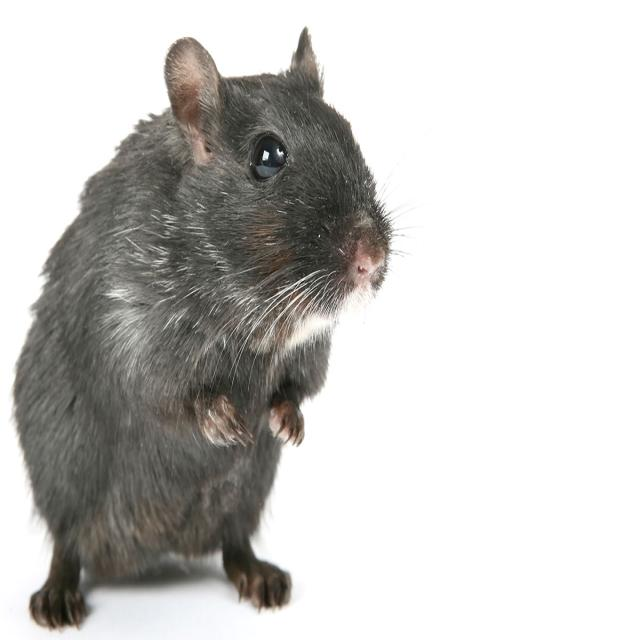rat: (10, 26, 402, 638)
